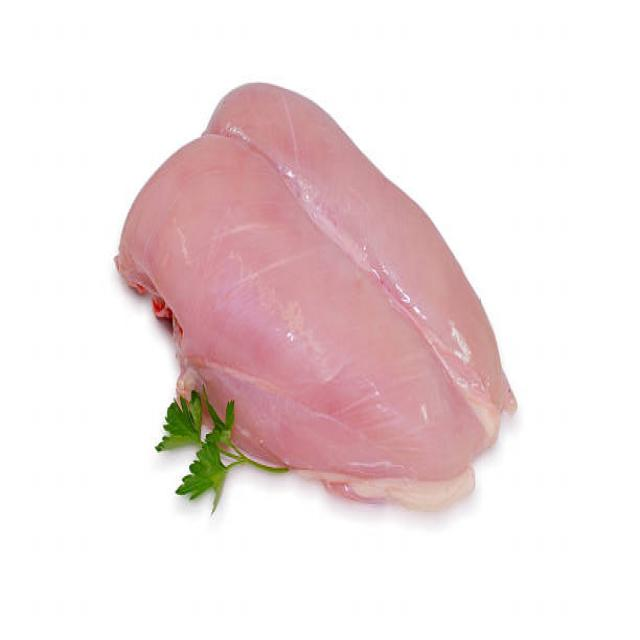Chicken: (98, 43, 538, 560)
